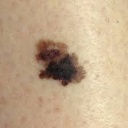Melanoma: (39, 42, 86, 86)
